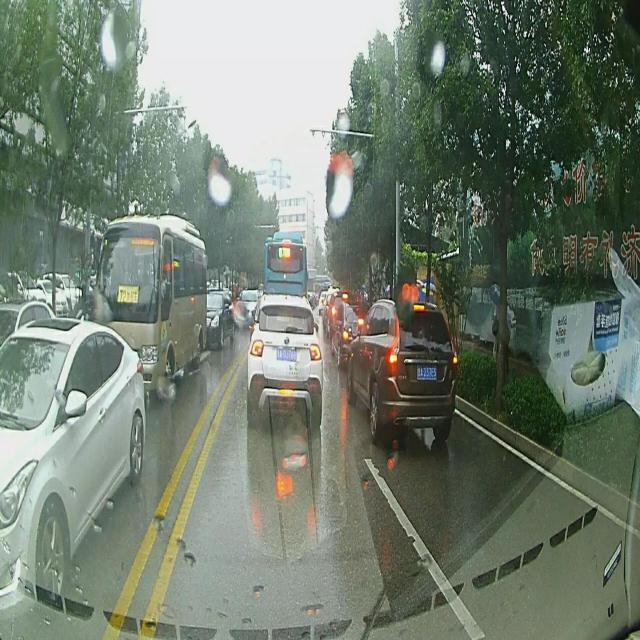car: (0, 322, 146, 620), (346, 295, 456, 440), (247, 293, 323, 430), (330, 300, 373, 366), (203, 289, 234, 345), (236, 286, 262, 328)
